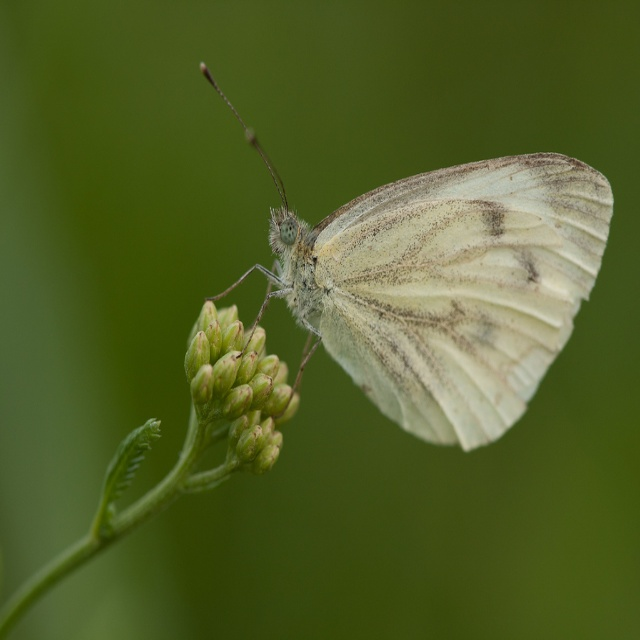Butterfly: (198, 62, 614, 453)
